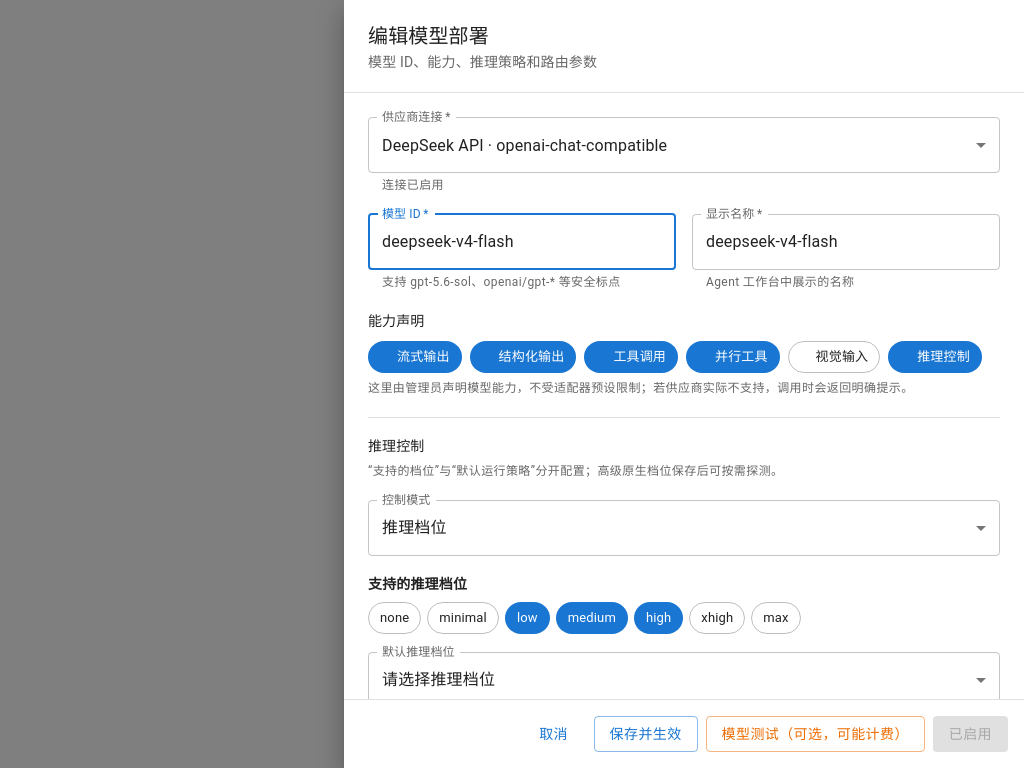
Test: DeploymentEditorDrawer › 模型测试失败时展示具体阶段、HTTP 诊断和每步结果
What coordinates should you click on to do the following:
click the button "模型测试（可选，可能计费）"
I would click on:
 (815, 734)
Its box is [706,716,925,752].
(page scrolled)
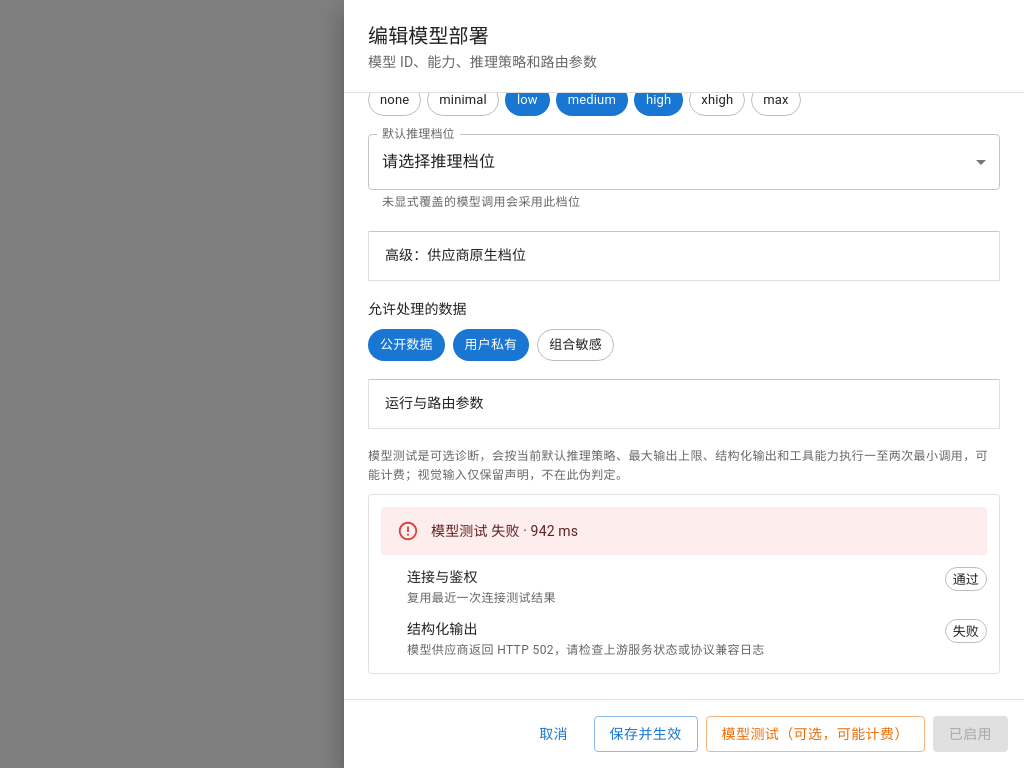
Expected: the text "模型测试 失败 · 942 ms" is shown, [431,523,578,539]
